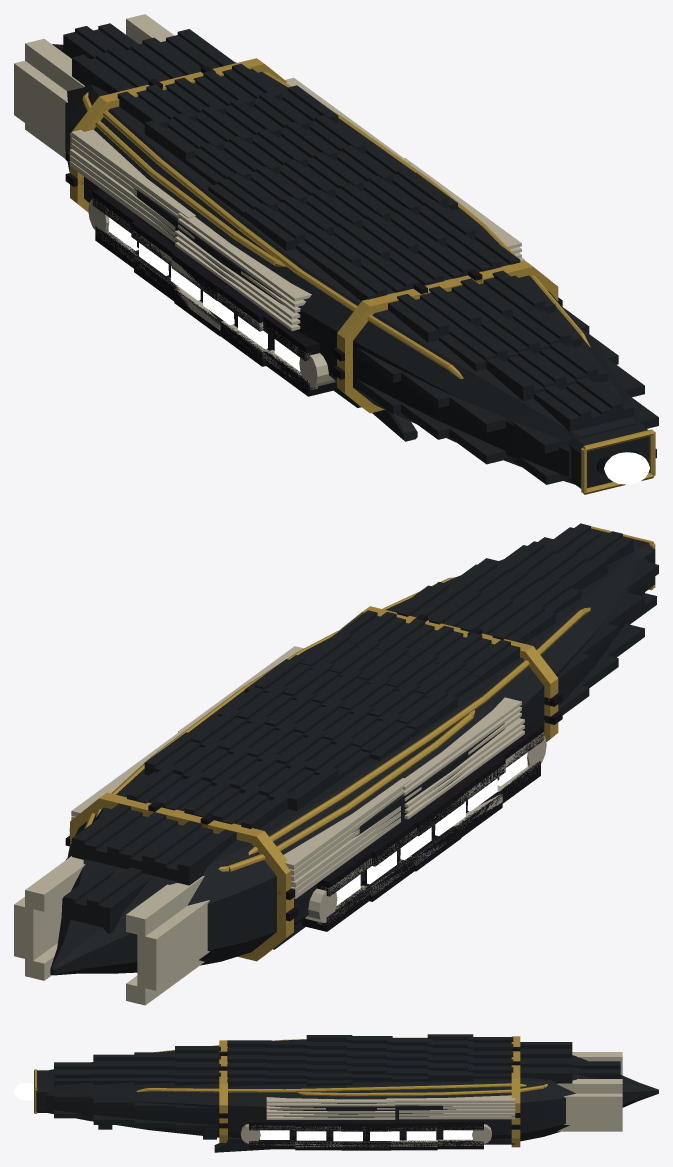
3 views of the same model, one above another, from view 1: azimuth 30°, elevation 25°; view 2: azimuth 150°, elevation 25°; view 3: azimuth 270°, elevation 25° (orthographic). The views are drawn at different scales.
Visible parts, largest first — view 1: RIMWARD_HULL, RIMWARD_EMISSIVE, RIMWARD_ENGINE_GLOW; view 2: RIMWARD_HULL, RIMWARD_EMISSIVE; view 3: RIMWARD_HULL, RIMWARD_EMISSIVE, RIMWARD_ENGINE_GLOW.
Part boxes in pixels (x1,y1,x2,y2): RIMWARD_HULL: [14, 14, 658, 494]; RIMWARD_EMISSIVE: [108, 217, 300, 371]; RIMWARD_ENGINE_GLOW: [604, 452, 649, 484]; RIMWARD_HULL: [14, 523, 658, 1005]; RIMWARD_EMISSIVE: [336, 752, 527, 905]; RIMWARD_HULL: [34, 1034, 658, 1152]; RIMWARD_EMISSIVE: [260, 1130, 472, 1141]; RIMWARD_ENGINE_GLOW: [14, 1082, 33, 1100].
Size of the model in its own units: 1.8 by 1.07 by 7.39.
